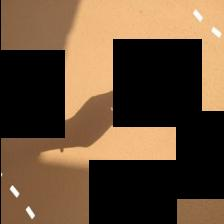brown: (0, 1, 77, 125), (41, 86, 140, 152)
